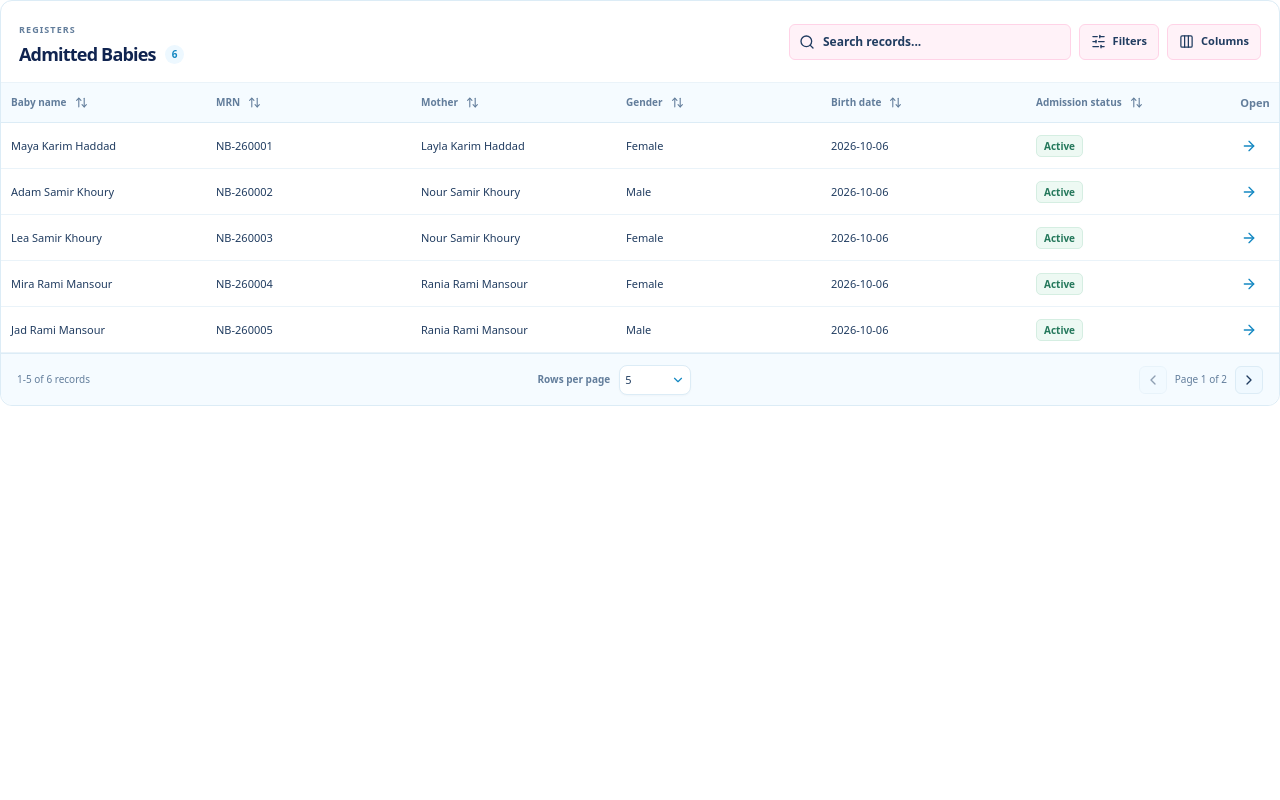
Test: paginates, sorts and resets pagination when filters change
Check: the message reads "1-5 of 6 records", box [17, 372, 90, 387]
Click the button named "Next page": (1249, 380) [1235, 366, 1263, 394]
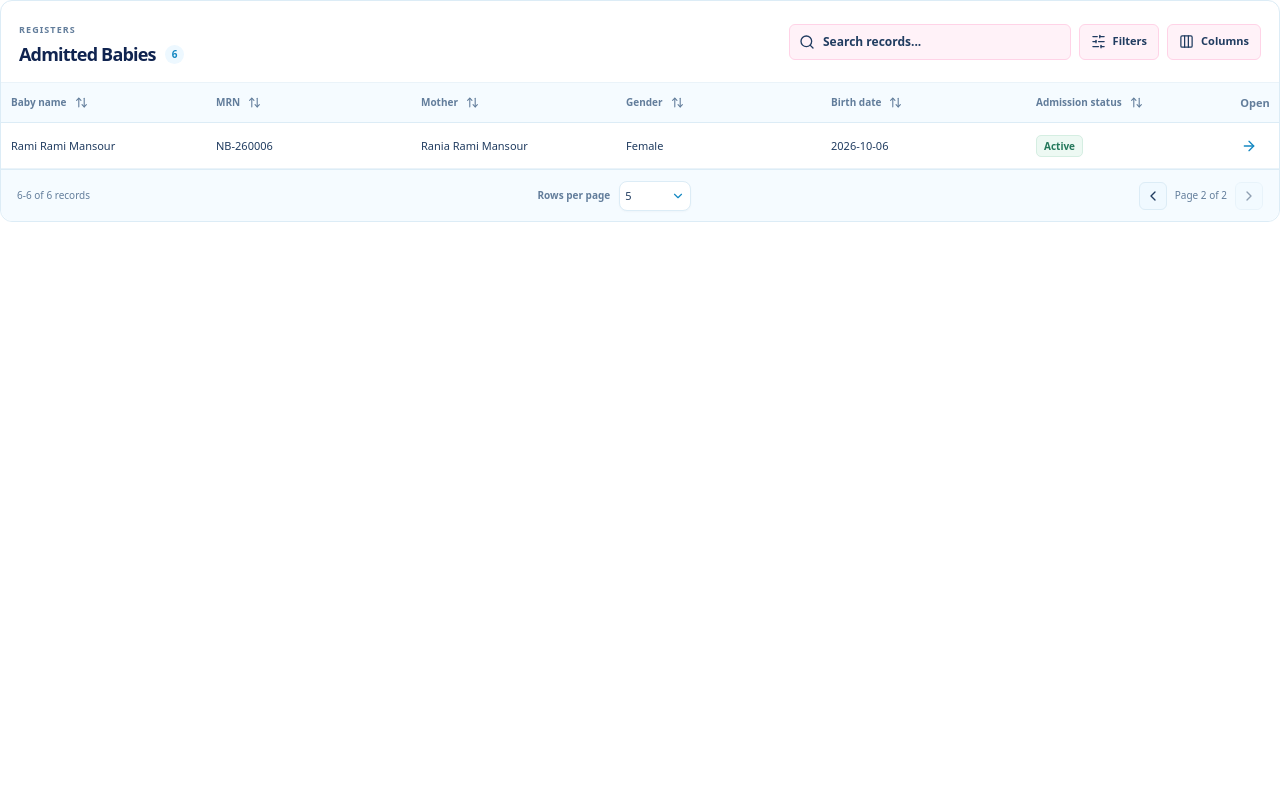
Check: the message reads "6-6 of 6 records", box [17, 188, 90, 203]
Click the button "Filters": (1119, 42) [1079, 24, 1159, 60]
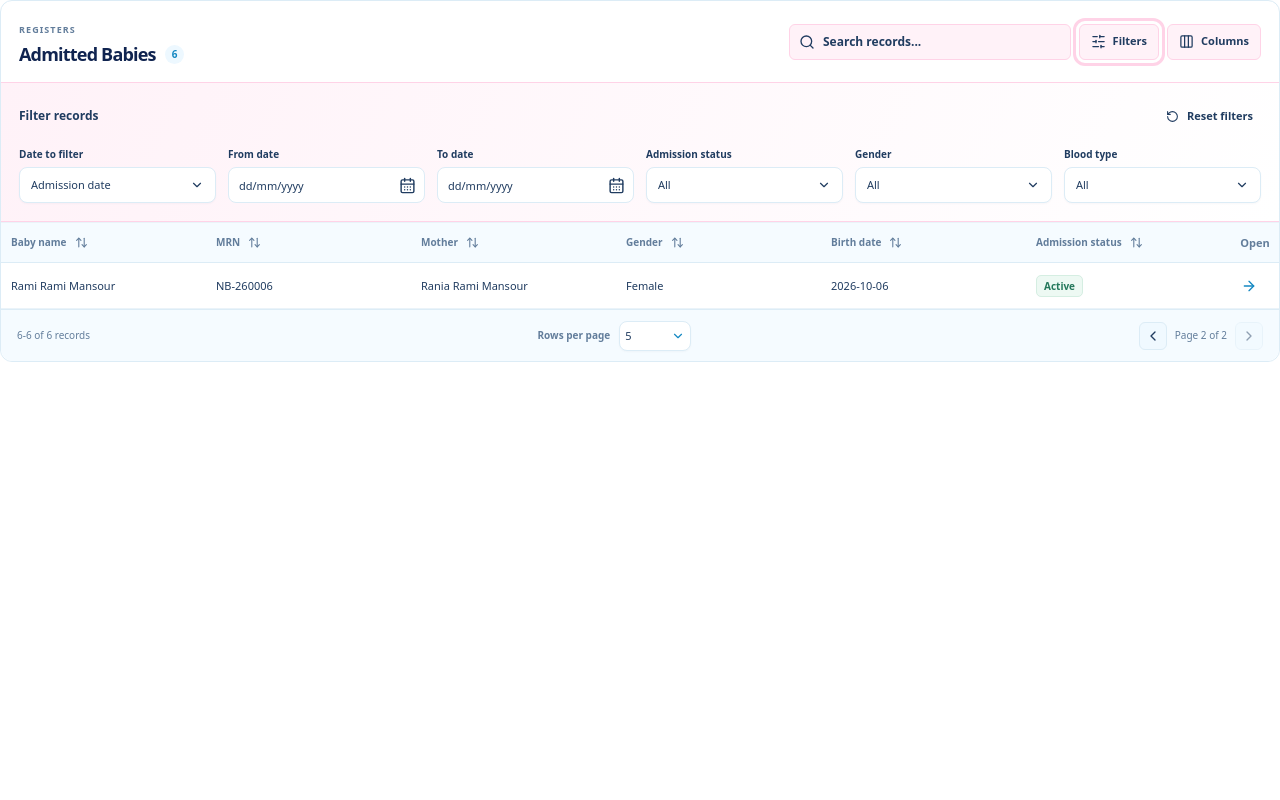
Click the button named "Gender All": (954, 185) [855, 167, 1052, 203]
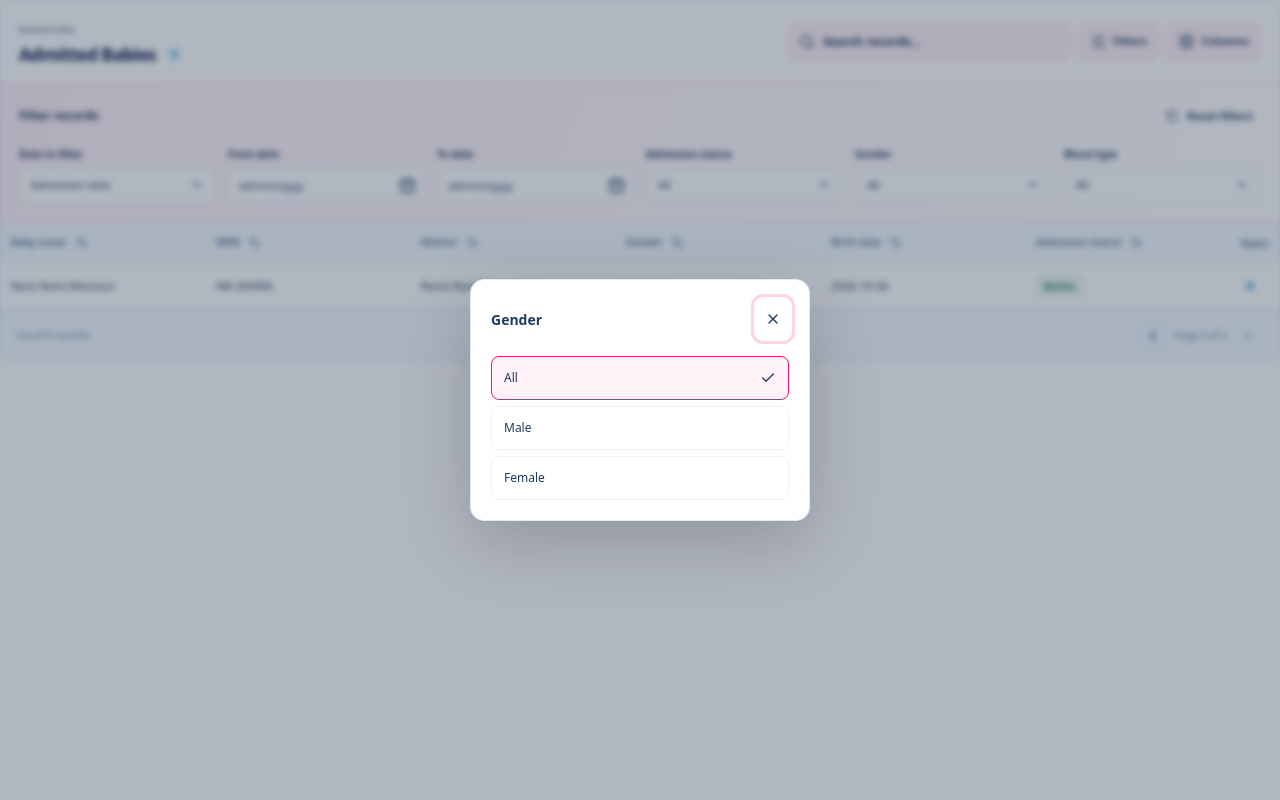
Click the button "Female": (524, 478) [491, 456, 789, 500]
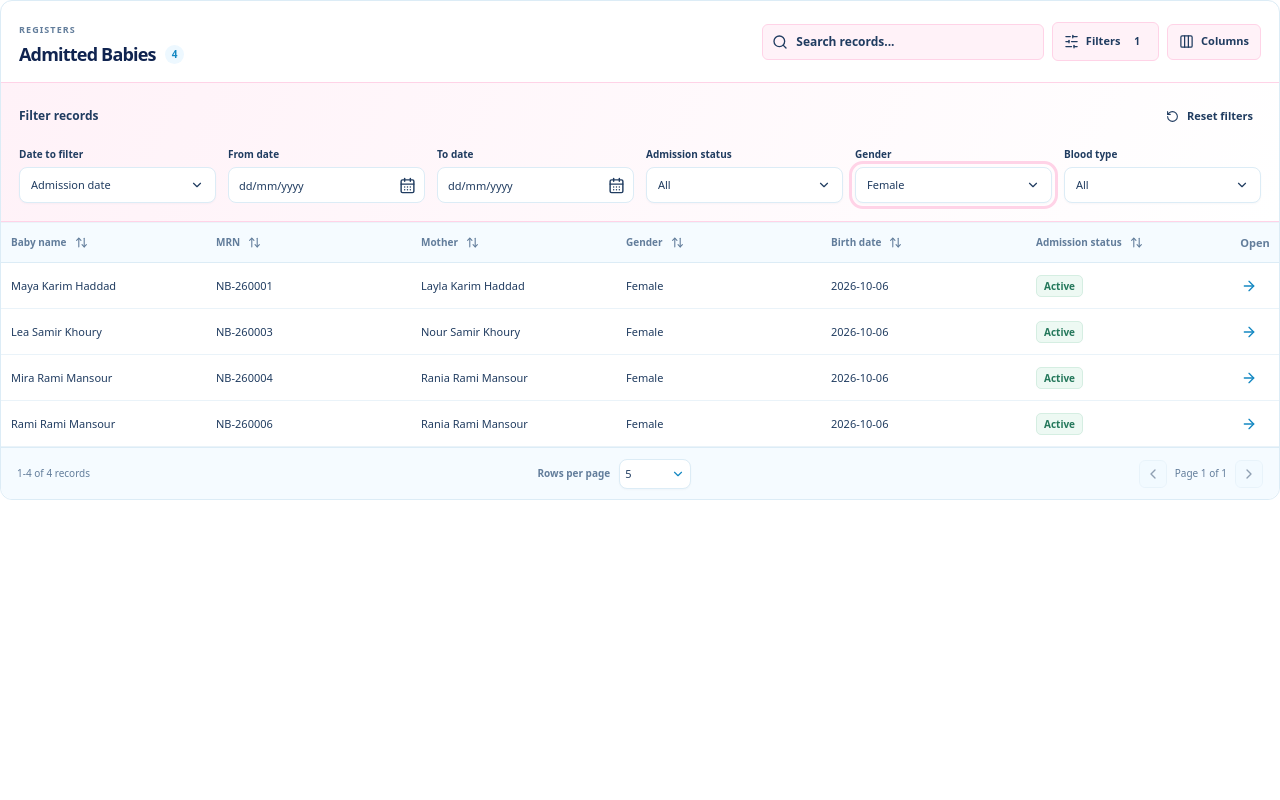
Check: the message reads "1-4 of 4 records", box [17, 466, 90, 481]
Click the button "Baby name": (104, 243) [1, 225, 206, 260]
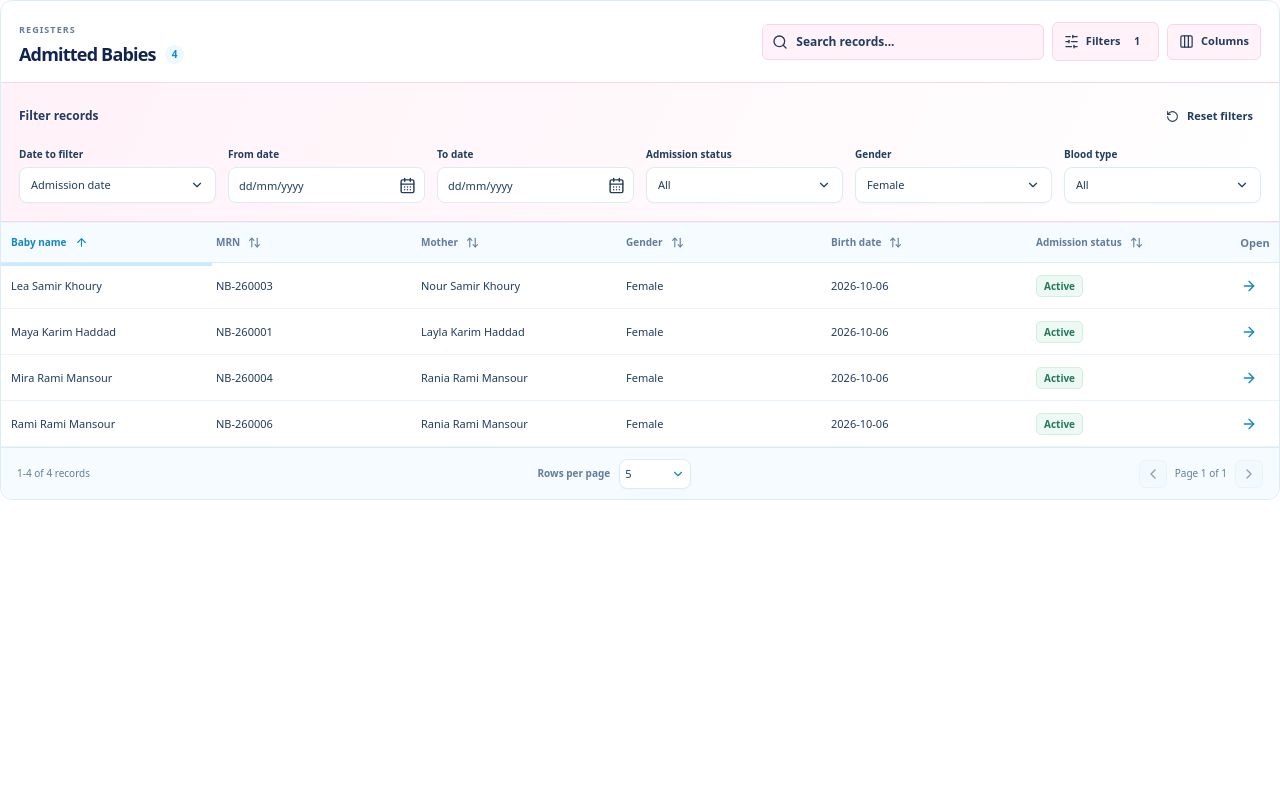
Check: the text "Lea Samir Khoury" is shown, box [1, 263, 206, 309]
Click the button "Reset filters": (1209, 116) [1158, 97, 1261, 135]
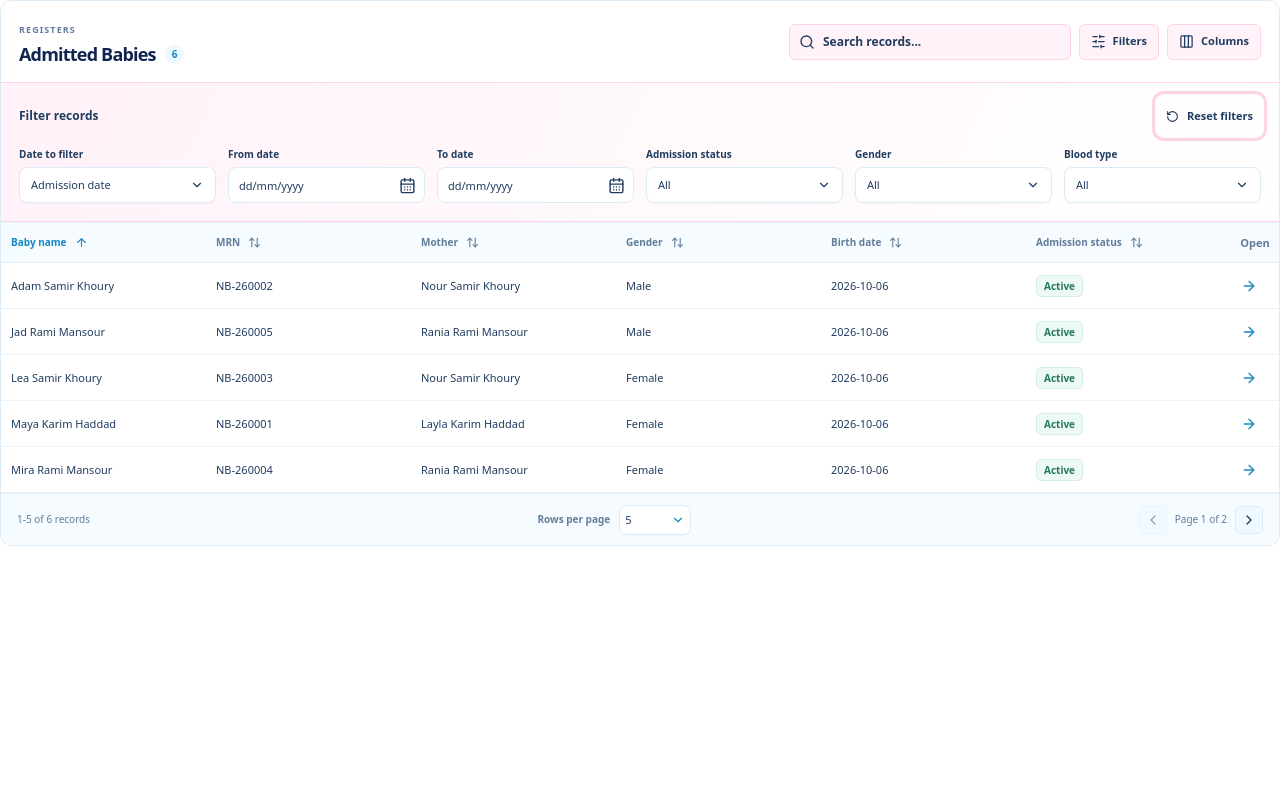
Check: the message shows "of 6 records", box [17, 512, 90, 527]
